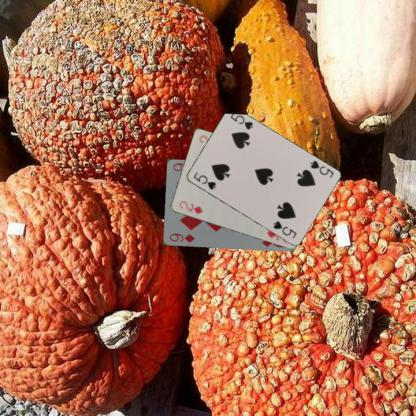2d: (177, 198, 204, 215)
5s: (191, 170, 217, 192), (308, 158, 335, 179)
9d: (167, 230, 195, 244)
